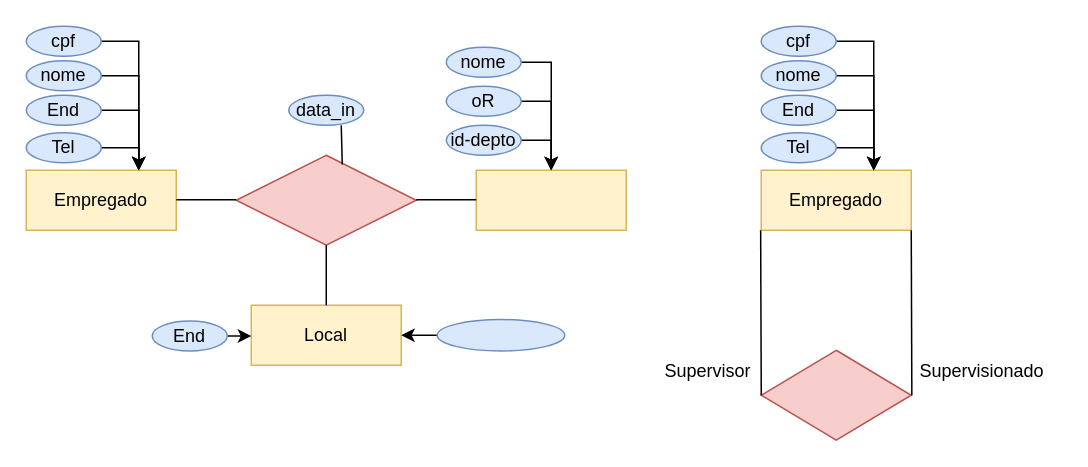
Some shapes in this 1088 by 467 pixel diagram are drawn without their labels. The shapes that lost their labels are listed below. From the top down, each one's box as (x1, y1, x2, y2) in pixels, then its label:
(235, 154, 416, 245): Trabalha
(475, 169, 626, 230): Departamento
(436, 318, 565, 351): Capacidade
(760, 349, 911, 440): Reporta_a
